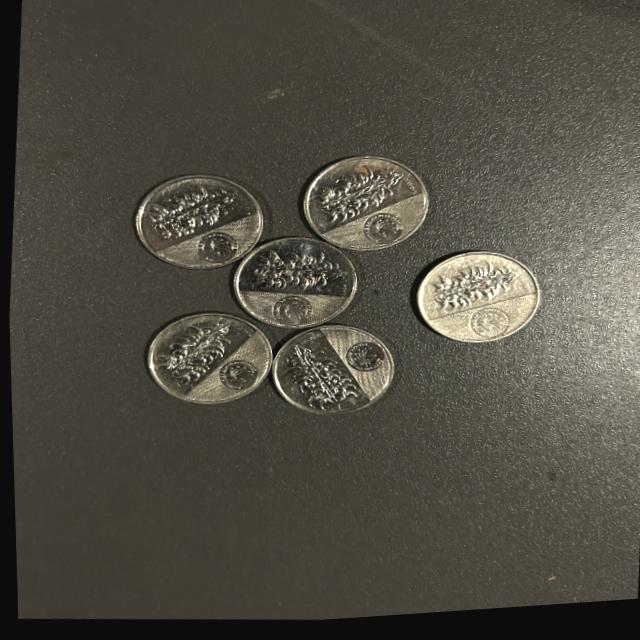5_New_Back: (303, 160, 419, 243), (135, 179, 243, 251), (276, 335, 364, 418), (150, 315, 238, 397), (423, 256, 525, 325), (244, 243, 344, 304)
